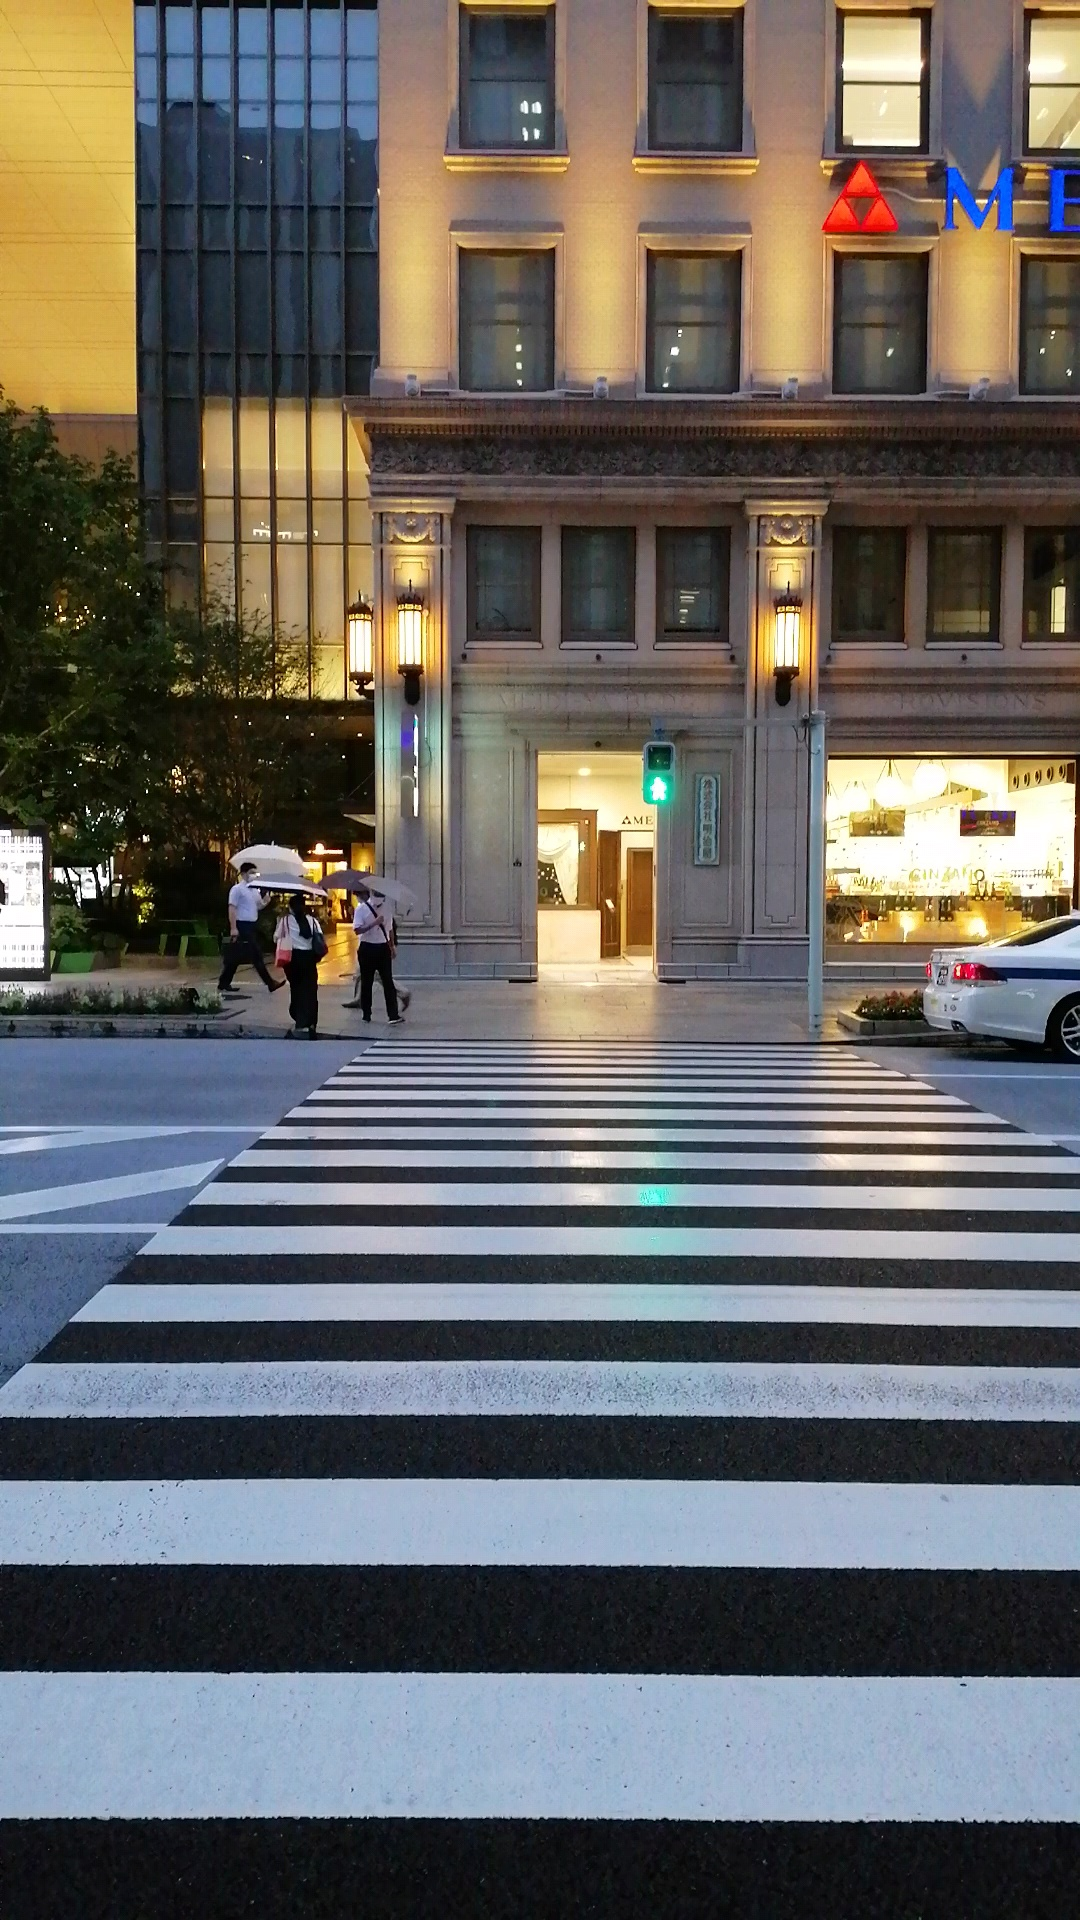green: (642, 738, 675, 808)
